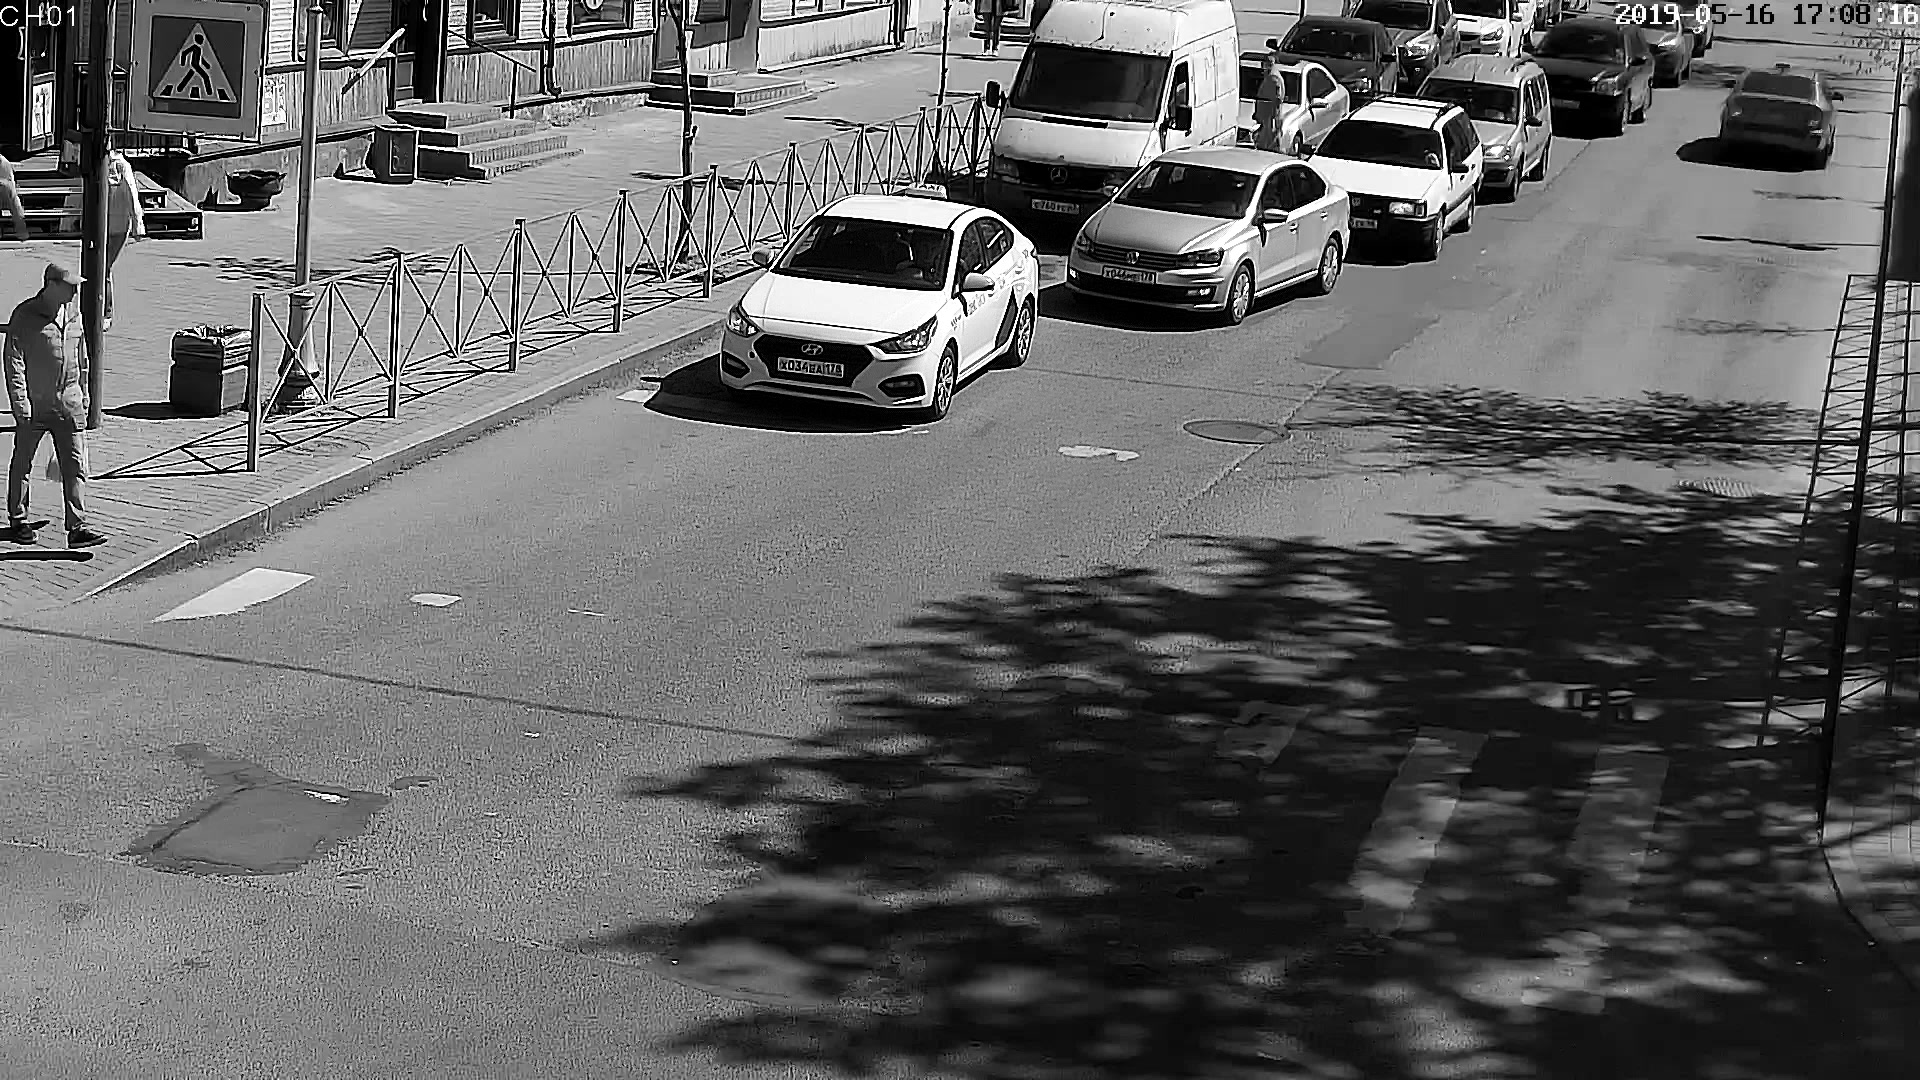car_num: (774, 355, 845, 380), (1749, 112, 1799, 135), (1101, 264, 1156, 284), (1348, 215, 1378, 231), (1549, 98, 1578, 111)
